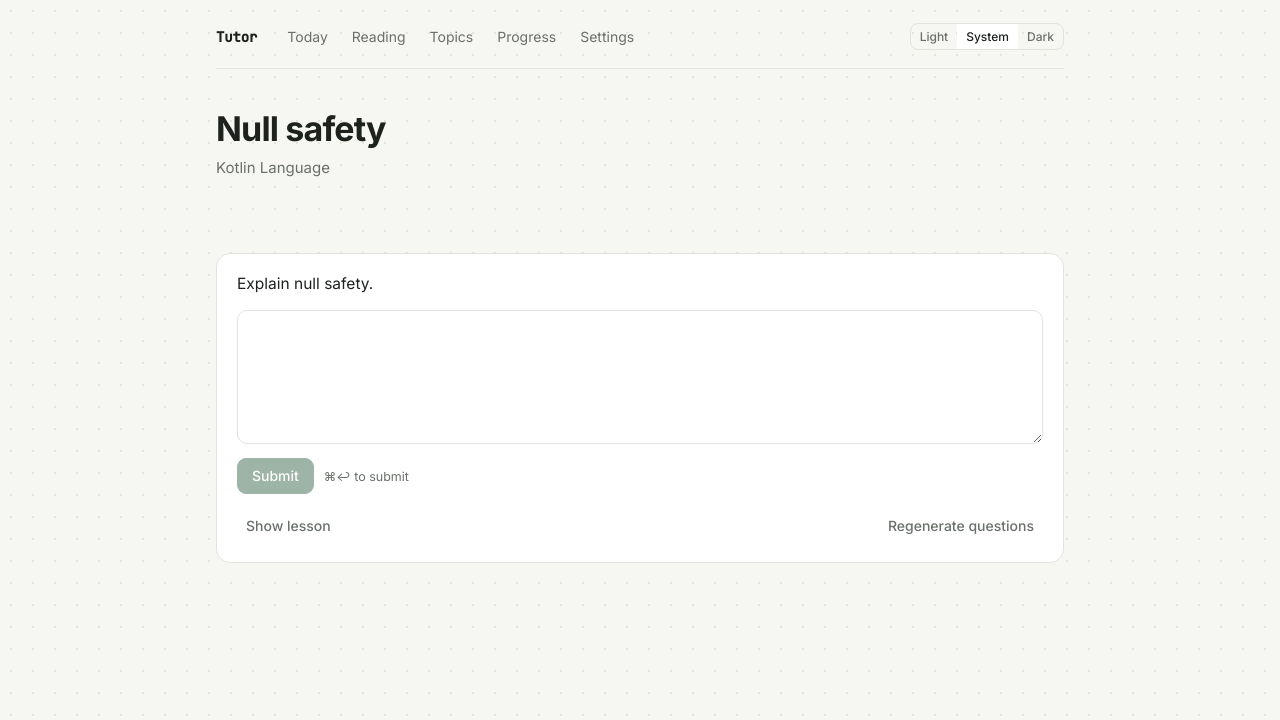
shows Mastered only when passed_gate
Type "x" into the text box at (640, 377), box [237,310,1043,444]
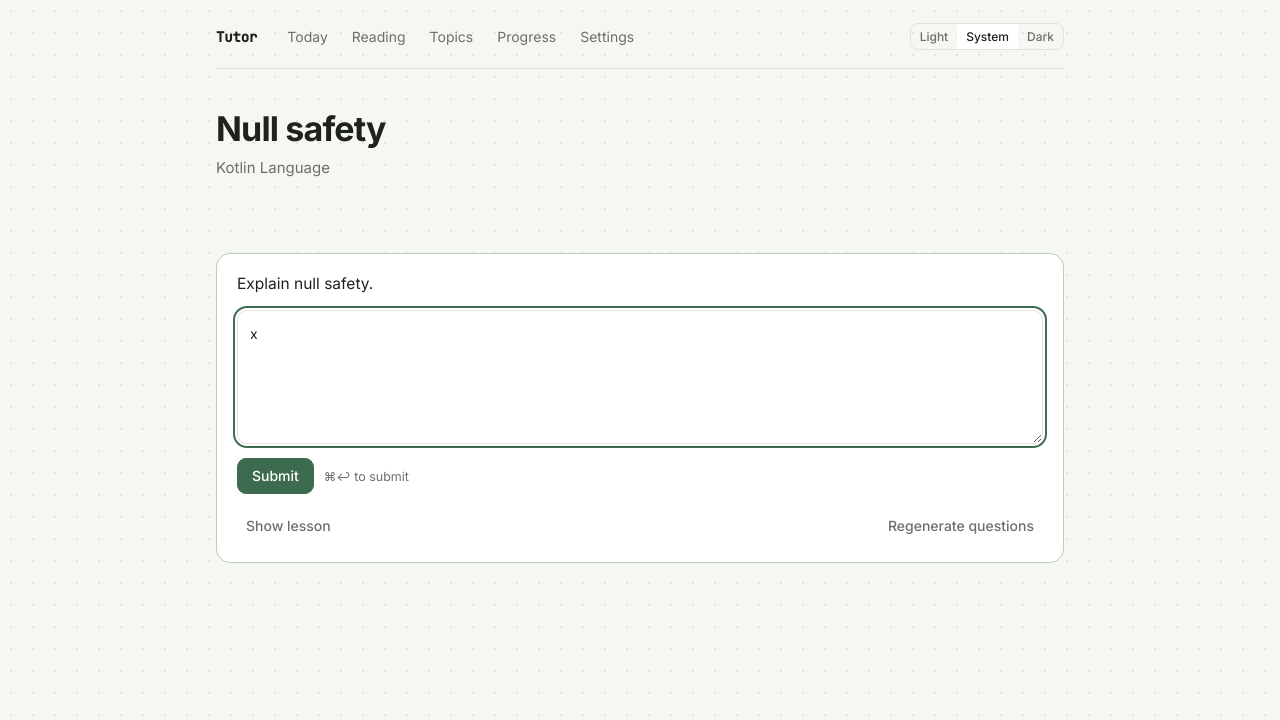
Click the button "Submit" at (275, 476), box [237,458,314,494]
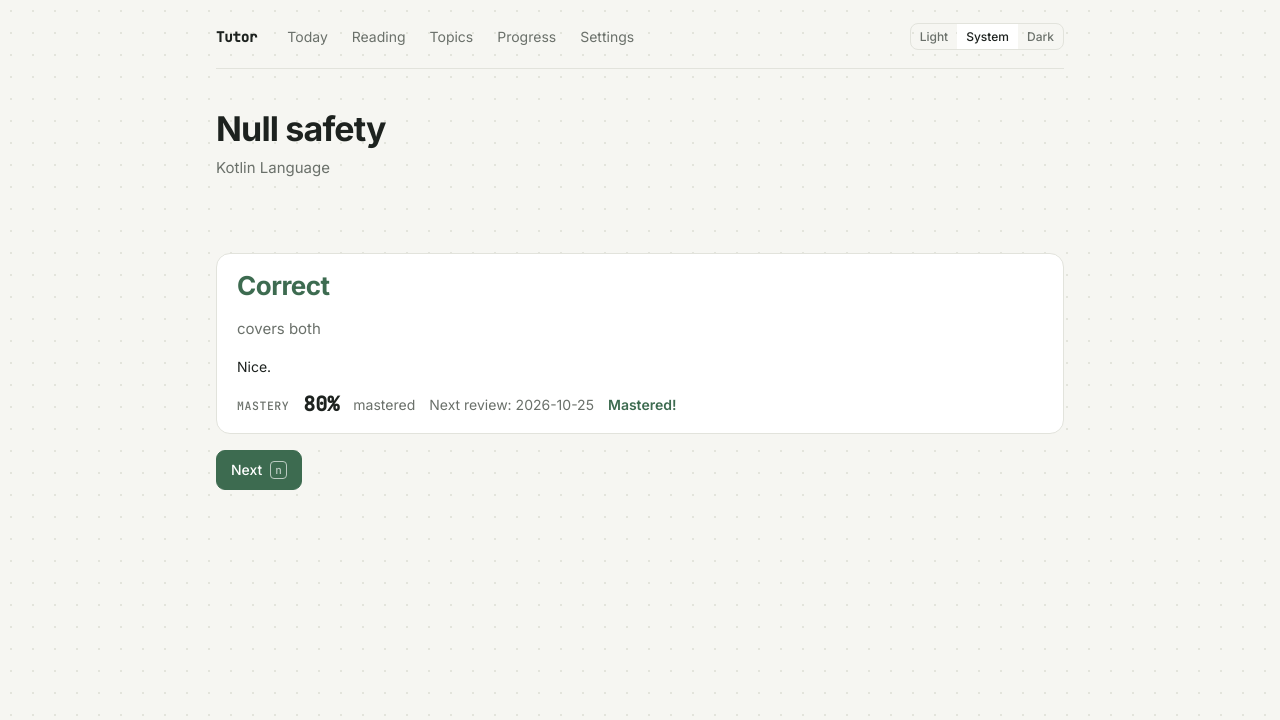
Now the text "Mastered!" is shown, box [608,394,676,415]
Now the text "80%" is shown, box [303,394,339,414]
Now the text "Next review: 2026-10-25" is shown, box [429,394,594,415]
